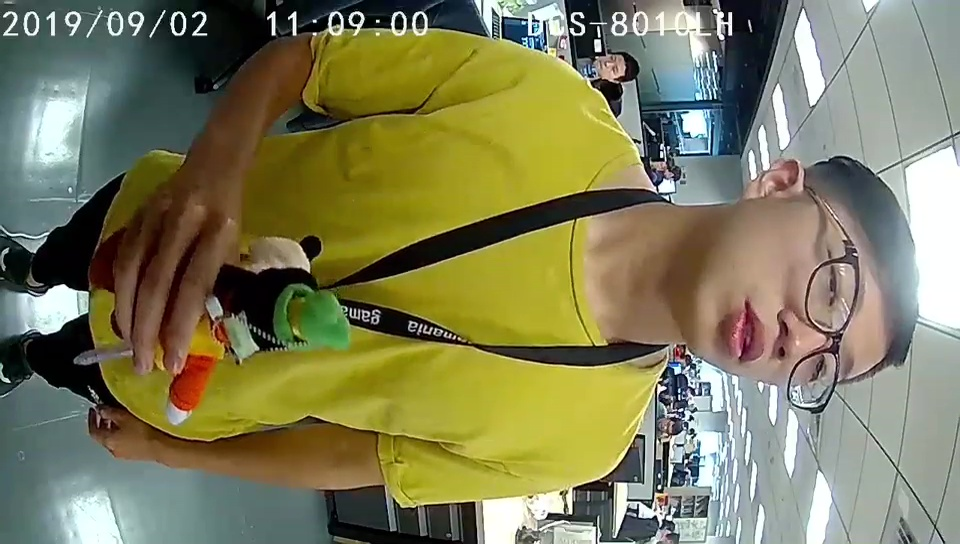goofy: (167, 257, 349, 424)
